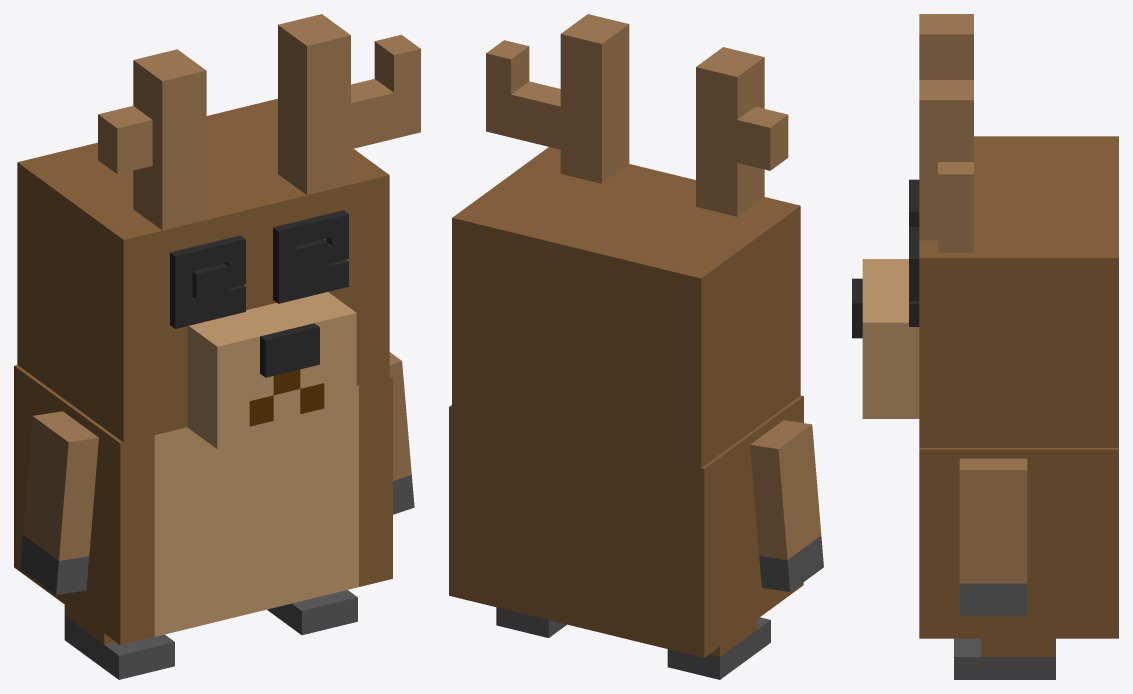
The picture shows the model from 3 angles, left to right: view 1: azimuth 30°, elevation 25°; view 2: azimuth 150°, elevation 25°; view 3: azimuth 270°, elevation 25°; orthographic projection. The views are drawn at different scales.
Visible parts, largest first — view 1: Ch_27_Head, Ch_27, Ch_27_Hand_L, Ch_27_Eye_03_R, Ch_27_Eye_03_L, Ch_27_Leg_L, Ch_27_Eye_02, Ch_27_Leg_R, Ch_27_Hand_R, Ch_27_Eye_01; view 2: Ch_27_Head, Ch_27, Ch_27_Hand_L, Ch_27_Leg_L, Ch_27_Leg_R; view 3: Ch_27_Head, Ch_27, Ch_27_Hand_R, Ch_27_Leg_R, Ch_27_Eye_03_R, Ch_27_Eye_03_L.
Part boxes in pixels (x1,y1,x2,y2): Ch_27_Head: (17, 14, 420, 449); Ch_27: (14, 365, 392, 645); Ch_27_Hand_L: (20, 411, 98, 594); Ch_27_Eye_03_R: (273, 210, 348, 303); Ch_27_Eye_03_L: (170, 235, 245, 328); Ch_27_Leg_L: (64, 605, 174, 679); Ch_27_Eye_02: (170, 259, 348, 322); Ch_27_Leg_R: (267, 590, 357, 635); Ch_27_Hand_R: (389, 352, 414, 514); Ch_27_Eye_01: (192, 239, 328, 318); Ch_27_Head: (452, 14, 800, 467); Ch_27: (449, 395, 803, 657); Ch_27_Hand_L: (750, 420, 823, 591); Ch_27_Leg_L: (667, 617, 770, 679); Ch_27_Leg_R: (496, 607, 566, 637); Ch_27_Head: (852, 14, 1118, 447); Ch_27: (919, 448, 1118, 638); Ch_27_Hand_R: (959, 458, 1027, 615); Ch_27_Leg_R: (954, 638, 1055, 679); Ch_27_Eye_03_R: (909, 226, 919, 326); Ch_27_Eye_03_L: (909, 179, 919, 226).
Bounding box in the file's own units: 8.49 × 13.71 × 5.84.
